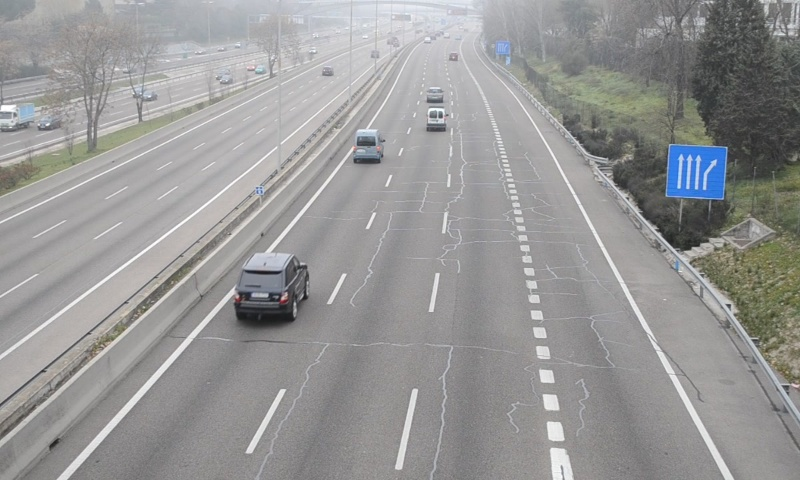car: (236, 252, 308, 316), (424, 85, 445, 103)
van: (354, 128, 383, 161), (426, 106, 446, 128)
